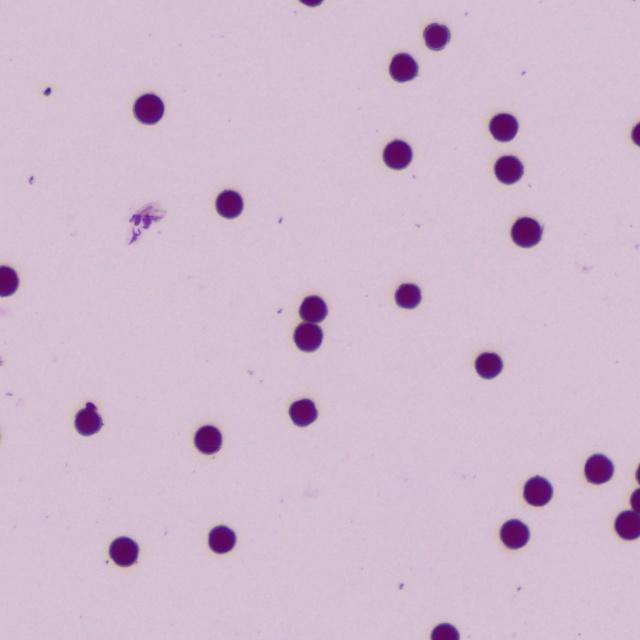viable: (511, 217, 541, 247), (109, 536, 138, 566), (134, 94, 163, 124), (75, 402, 102, 434), (523, 476, 552, 505), (383, 139, 411, 169), (489, 113, 518, 141), (294, 322, 322, 351), (500, 520, 528, 548), (495, 155, 523, 183), (389, 53, 417, 81), (585, 454, 612, 483), (194, 425, 221, 454), (216, 190, 243, 218), (209, 525, 235, 553), (289, 399, 317, 425), (299, 296, 326, 322), (423, 23, 449, 50), (476, 352, 502, 378), (615, 511, 639, 539), (395, 283, 420, 308), (0, 265, 18, 296), (431, 623, 461, 639), (630, 488, 639, 512), (631, 122, 639, 145), (299, 0, 322, 6), (635, 464, 639, 483)
